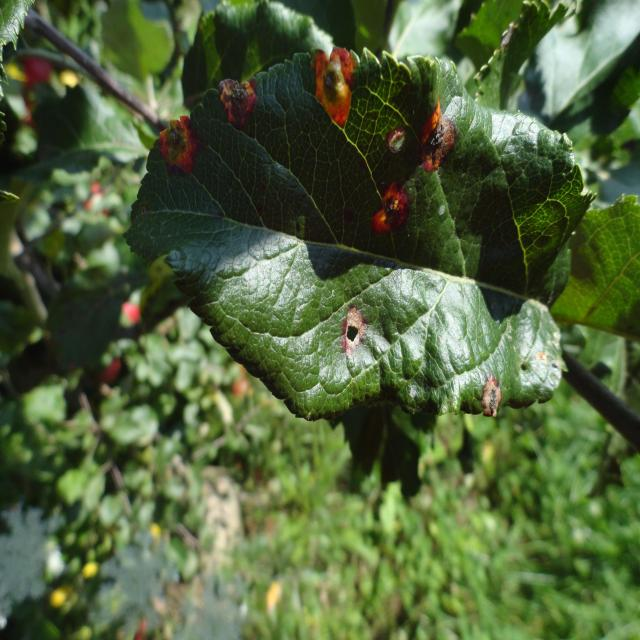Rust: (304, 39, 375, 141), (142, 100, 206, 178), (213, 65, 269, 145), (412, 86, 454, 186), (367, 180, 423, 239), (330, 291, 366, 376), (464, 371, 513, 428), (374, 117, 415, 171)
